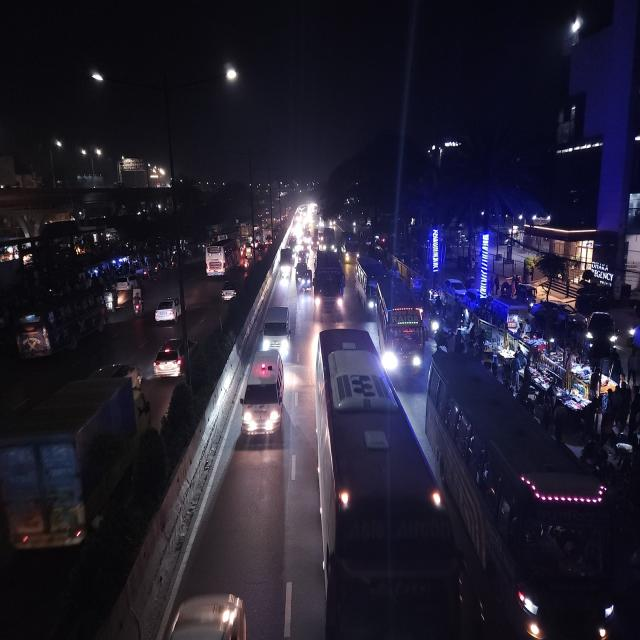bus: (426, 353, 618, 640), (314, 322, 452, 640), (12, 287, 108, 363), (372, 279, 428, 381), (314, 247, 346, 322), (355, 255, 383, 320), (203, 237, 237, 280), (341, 228, 360, 265), (116, 271, 138, 293), (321, 226, 337, 253)
car: (239, 347, 286, 443), (152, 334, 198, 384), (261, 302, 291, 353), (154, 293, 182, 327), (295, 259, 313, 296), (220, 278, 240, 306)
motorcycle: (131, 289, 145, 320)
truck: (0, 370, 140, 562), (278, 249, 292, 281)
